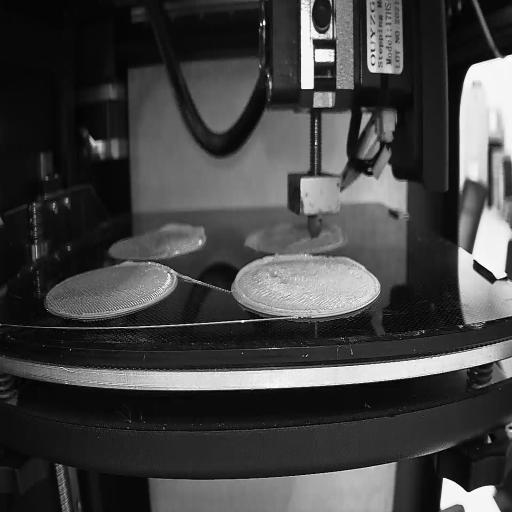over_extrusion: (232, 252, 322, 317), (158, 221, 208, 244), (325, 217, 348, 249), (326, 252, 364, 270), (114, 259, 145, 270), (288, 234, 310, 248)
